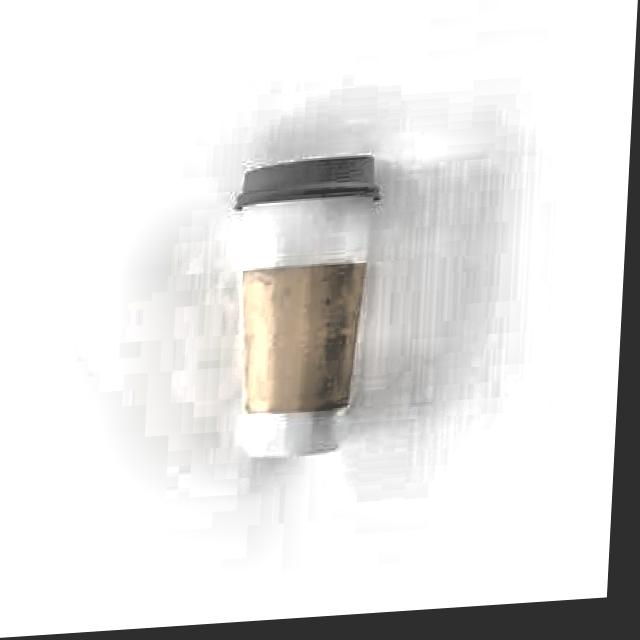Cup: (226, 163, 395, 491)
